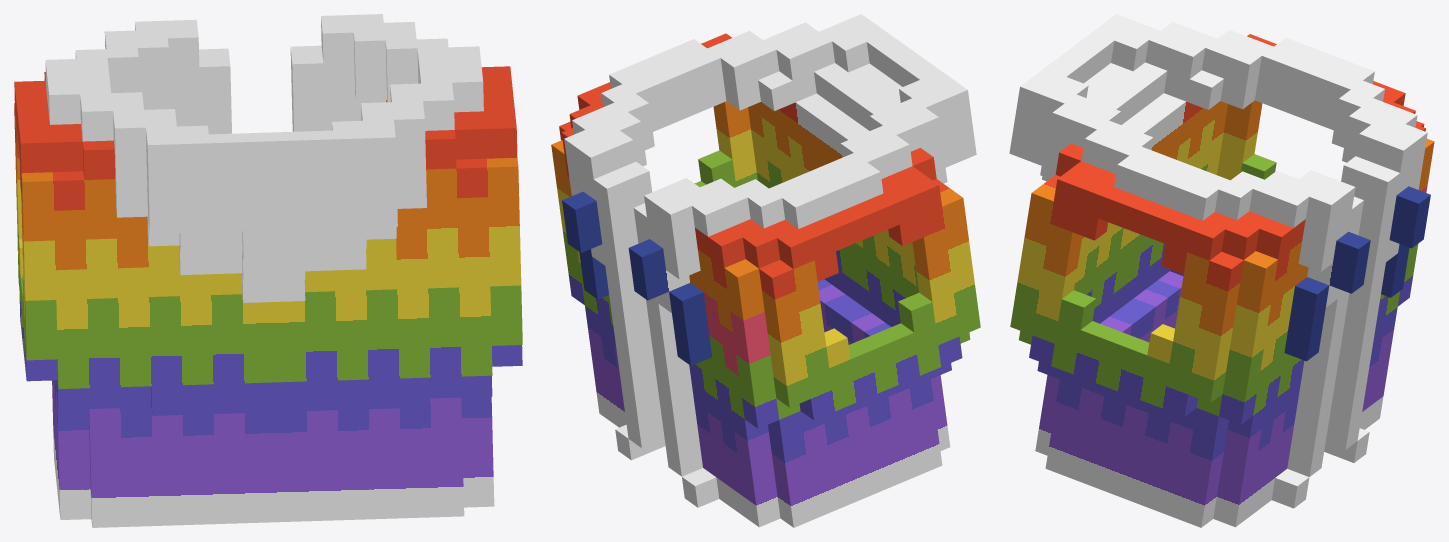
File: Cozy_Winter_Jacket_-_Care_Bears.gltf
The picture shows the model from 3 angles, left to right: view 1: azimuth 30°, elevation 25°; view 2: azimuth 150°, elevation 25°; view 3: azimuth 270°, elevation 25°; orthographic projection. The views are drawn at different scales.
Parts seen in each view (by area): view 1: Equip_Chest-Local; view 2: Equip_Chest-Local; view 3: Equip_Chest-Local.
Part boxes in pixels (<box>): Equip_Chest-Local: <box>14,14,522,527</box>; Equip_Chest-Local: <box>551,14,980,527</box>; Equip_Chest-Local: <box>1009,14,1434,527</box>.
Bounding box in the file's own units: 18.64 × 16.04 × 16.65.
Materials: 1 (1 with a texture image).
